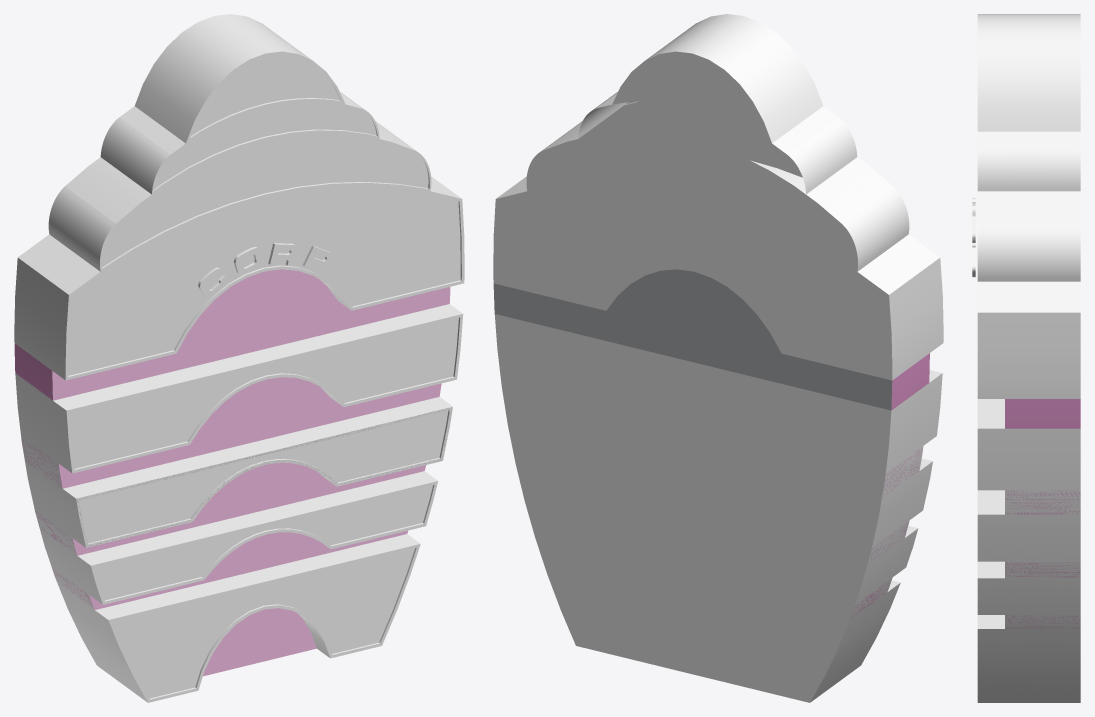
The model's file is E_Background.fbx.
The picture shows the model from 3 angles, left to right: view 1: azimuth 30°, elevation 25°; view 2: azimuth 150°, elevation 25°; view 3: azimuth 270°, elevation 25°; orthographic projection.
Parts seen in each view (by area): view 1: group_1.034, group_1.035, group_1.038, group_1.016, group_1.044, group_1.006, group_1.033, group_1.036, group_1.008, group_1.037, group_1.031, group_1.022 (+16 smaller); view 2: group_1.006, group_1.016, group_1.032, group_1.031, group_1.044, group_1.019, group_1.017, group_1.007, group_1.022, group_1.025, group_1.013, group_1.009; view 3: group_1.016, group_1.031, group_1.030, group_1.006, group_1.019, group_1.023, group_1.018, group_1.028, group_1.011, group_1.004, group_1.015, group_1.001 (+3 smaller).
Boxes of the visible parts, x1,y1,x2,y2 form: group_1.034: (68,187,461,376); group_1.035: (69,317,460,469); group_1.038: (112,548,414,698); group_1.016: (14,121,464,380); group_1.044: (101,134,429,268); group_1.006: (15,304,463,702); group_1.033: (52,269,450,400); group_1.036: (79,411,448,543); group_1.008: (59,377,441,488); group_1.037: (94,485,432,600); group_1.031: (135,14,312,143); group_1.022: (25,397,452,547); group_1.006: (494,314,942,702); group_1.016: (493,101,943,380); group_1.032: (493,269,892,410); group_1.031: (612,14,822,143); group_1.044: (579,101,802,176); group_1.019: (578,92,857,194); group_1.017: (806,157,892,223); group_1.007: (810,583,900,702); group_1.022: (872,458,932,547); group_1.025: (855,528,918,604); group_1.013: (891,353,929,410); group_1.009: (882,446,923,498); group_1.016: (977,229,1080,398); group_1.031: (977,14,1080,131); group_1.030: (977,629,1080,702); group_1.006: (977,399,1080,628); group_1.019: (977,131,1080,191); group_1.023: (977,514,1080,561); group_1.018: (977,191,1080,229); group_1.028: (977,578,1080,614); group_1.011: (1005,399,1080,428); group_1.004: (1005,490,1080,514); group_1.015: (1005,561,1080,578); group_1.001: (1005,615,1080,628).
Size of the model in its own units: 7195 by 10694 by 1685.
